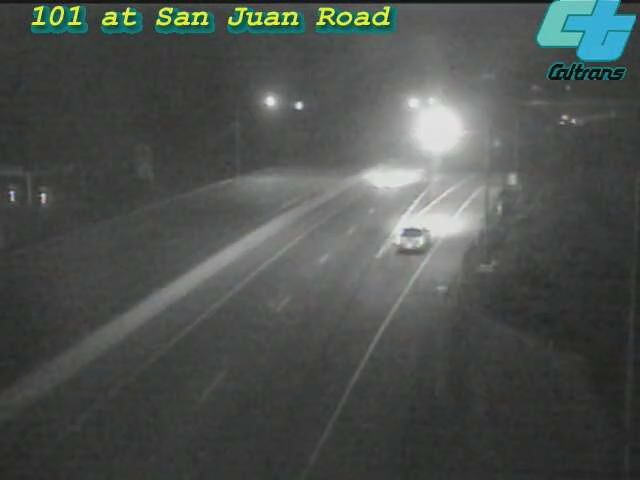vehicle: (348, 137, 428, 217), (369, 203, 449, 283), (411, 106, 461, 156), (543, 94, 593, 144)
